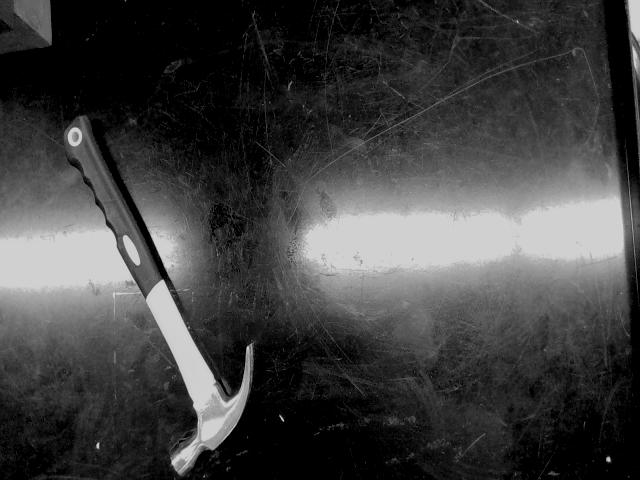Hammer: (64, 115, 254, 475)
